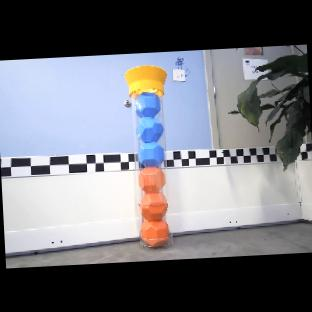Loader: (124, 64, 175, 249)
V5_BLUE: (133, 113, 162, 140), (136, 139, 164, 165), (133, 88, 160, 114)
V5_RED: (140, 216, 173, 247), (137, 190, 168, 218), (137, 164, 165, 190)
